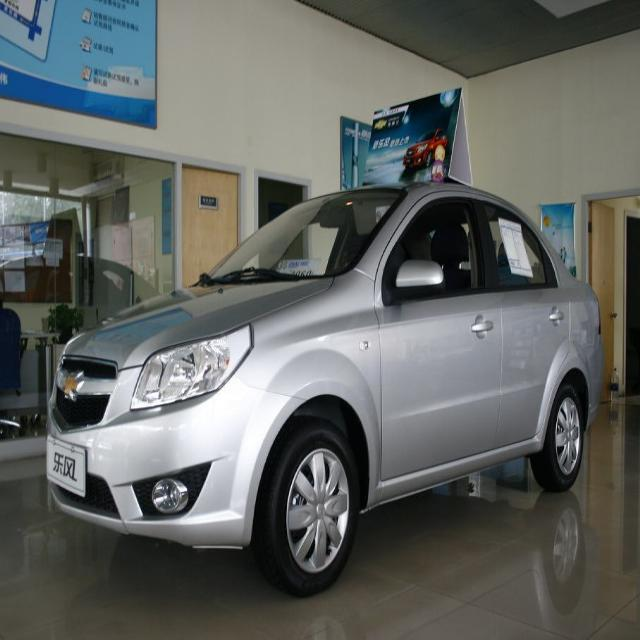door: (476, 197, 562, 440)
front_bumper: (39, 377, 301, 551)
front_glass: (205, 184, 396, 285)
front_left_side_door: (376, 190, 506, 486)
front_left_side_light: (129, 318, 257, 418)
front_left_side_mirror: (389, 255, 449, 299)
wheel: (261, 425, 361, 588), (542, 378, 578, 487)
